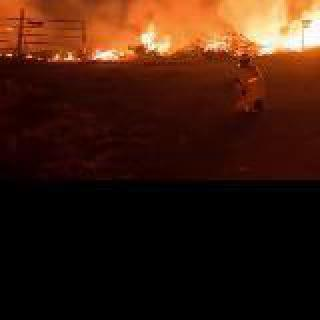fire: (113, 0, 320, 20), (256, 0, 320, 54), (144, 22, 178, 54), (90, 48, 120, 62), (26, 52, 74, 60)
